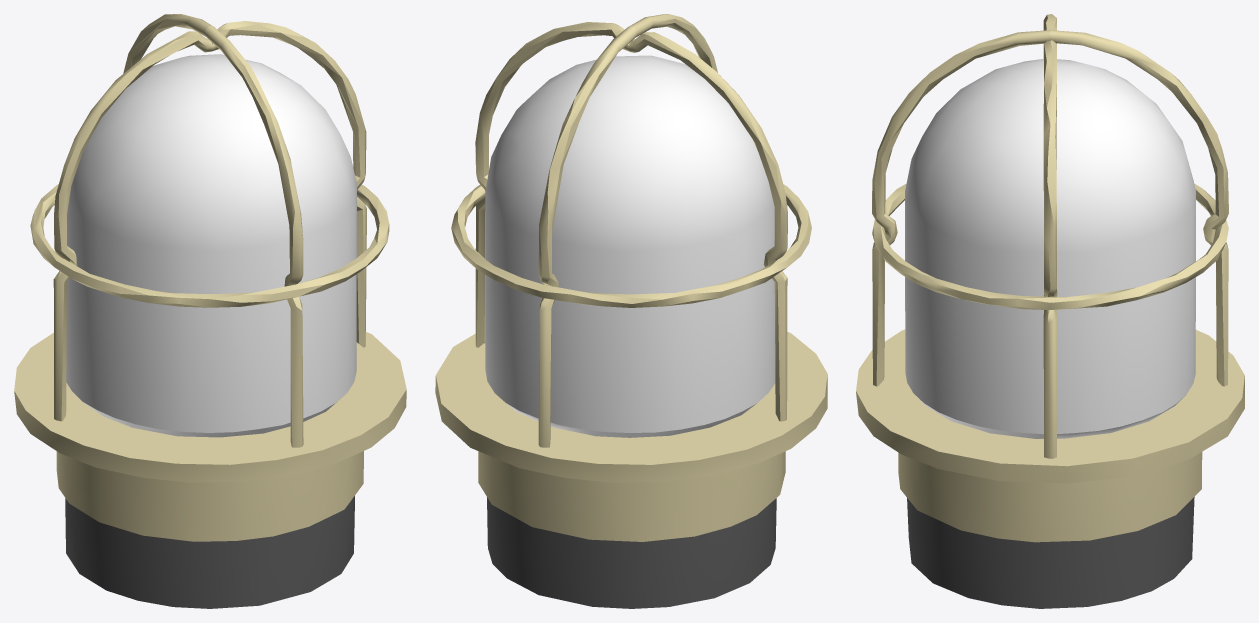
File: malin.fbx
3 views of the same model, side by side, from view 1: azimuth 30°, elevation 25°; view 2: azimuth 150°, elevation 25°; view 3: azimuth 270°, elevation 25° (orthographic).
Visible parts, largest first — view 1: マリンライトブラス スパイクタイプ（12V); view 2: マリンライトブラス スパイクタイプ（12V); view 3: マリンライトブラス スパイクタイプ（12V).
Boxes of the visible parts, x1,y1,x2,y2 form: マリンライトブラス スパイクタイプ（12V): [14, 14, 406, 608]; マリンライトブラス スパイクタイプ（12V): [435, 14, 827, 608]; マリンライトブラス スパイクタイプ（12V): [856, 14, 1244, 608].
Size of the model in its own units: 11.99 by 17.6 by 11.98.
